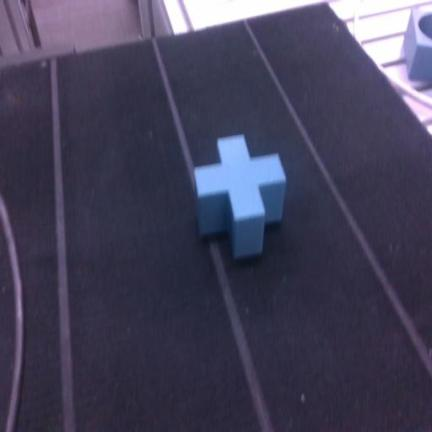cross: (195, 135, 286, 258)
